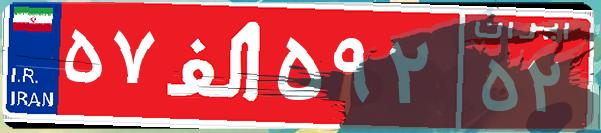2: (385, 28, 445, 110), (525, 38, 570, 115)
5: (273, 28, 330, 110), (57, 26, 110, 107), (475, 38, 525, 113)
7: (110, 28, 158, 105)
9: (330, 28, 385, 110)
الف: (158, 15, 273, 115)
